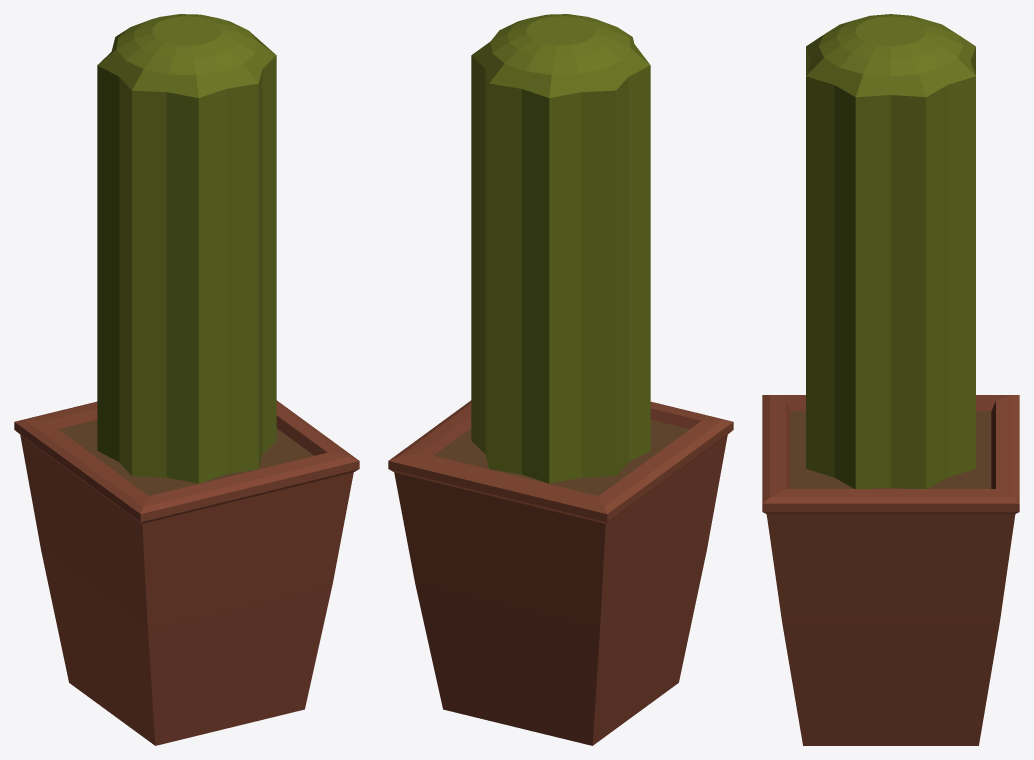
The model's file is cactus.fbx.
3 renders of one model, left to right at view 1: azimuth 30°, elevation 25°; view 2: azimuth 150°, elevation 25°; view 3: azimuth 270°, elevation 25°, orthographic.
Parts seen in each view (by area): view 1: Cactus, Pot; view 2: Cactus, Pot; view 3: Cactus, Pot.
Part boxes in pixels (<box>): Cactus: <box>97,14,276,483</box>; Pot: <box>14,400,359,745</box>; Cactus: <box>471,14,650,483</box>; Pot: <box>388,400,733,745</box>; Cactus: <box>806,14,975,488</box>; Pot: <box>762,395,1019,745</box>.
Size of the model in its own units: 31.92 by 92.73 by 31.92.
